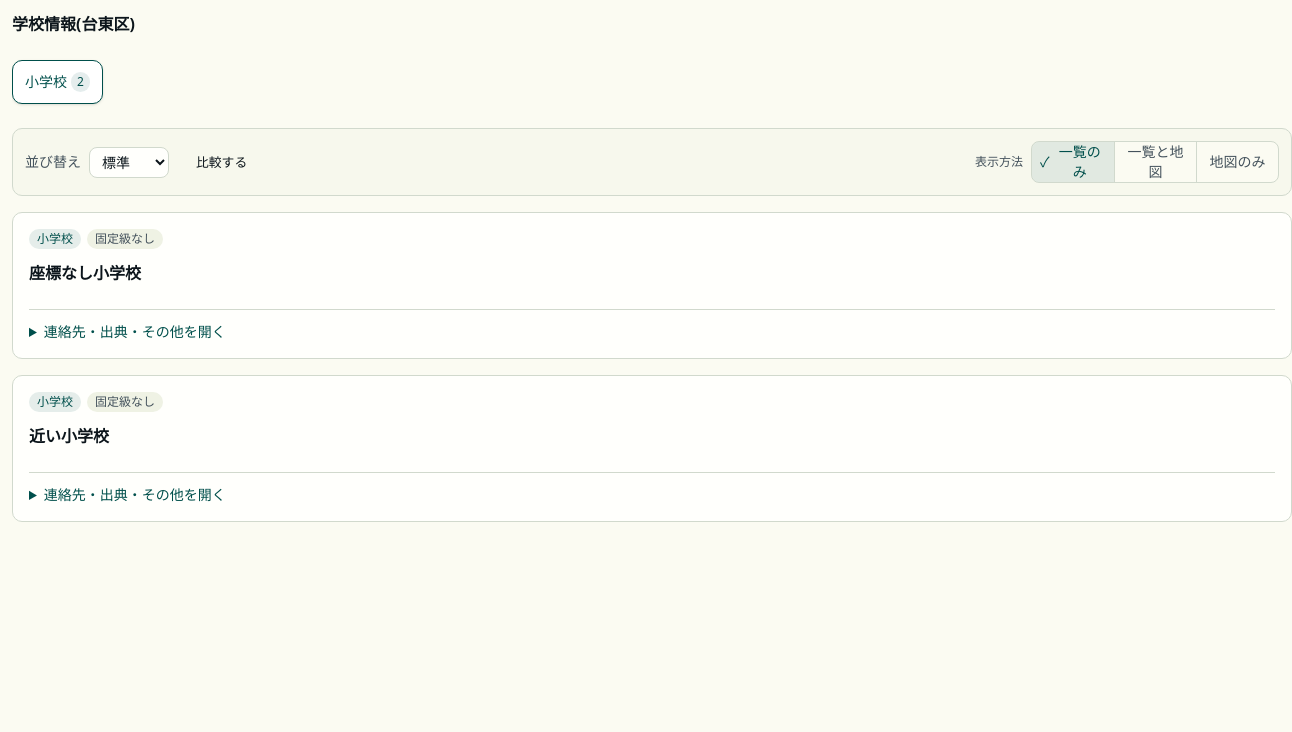
Test: SchoolInfoSection: 近い順の並び替え › 座標が無い学校は「近い順」でも除外されず、末尾に回される
Select "近い順" in the dropdown labelled "並び替え" at (129, 162), box [89, 146, 169, 178]
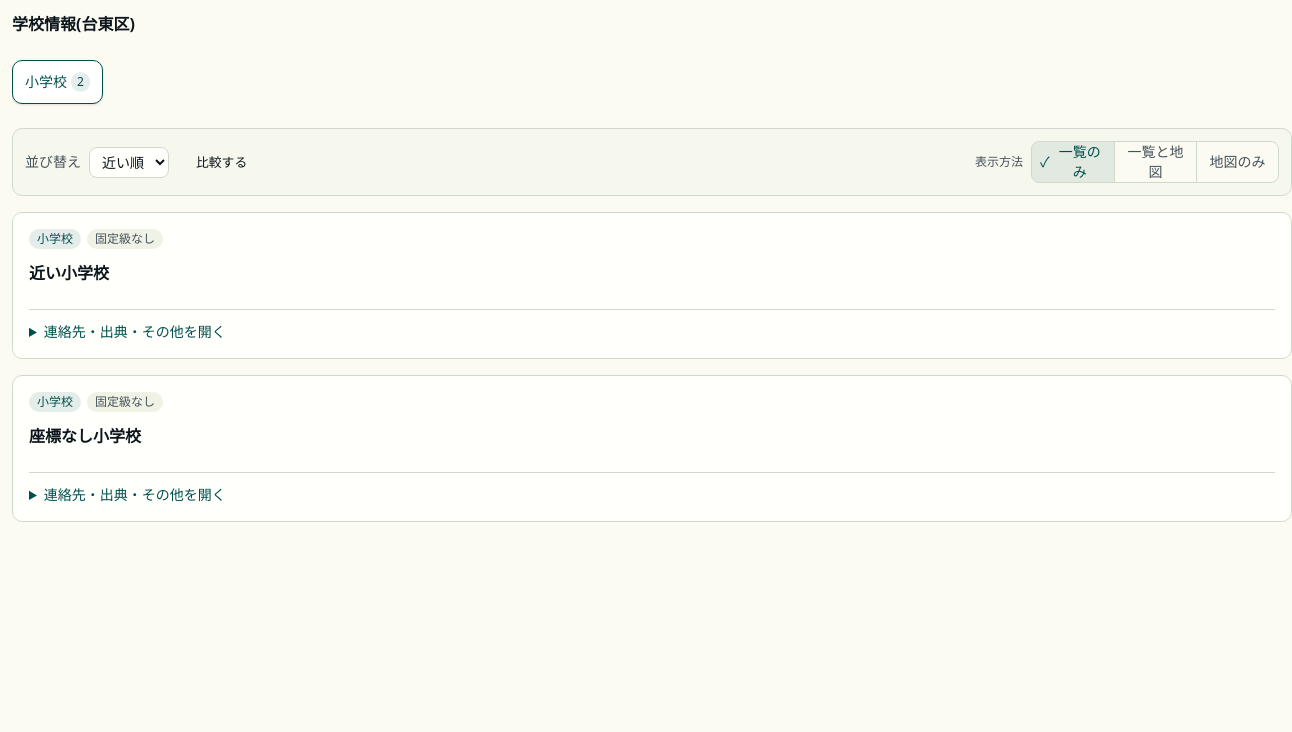
Check: the headings read "近い小学校", "座標なし小学校", in this order, box [29, 262, 109, 284]; [29, 425, 141, 447]
